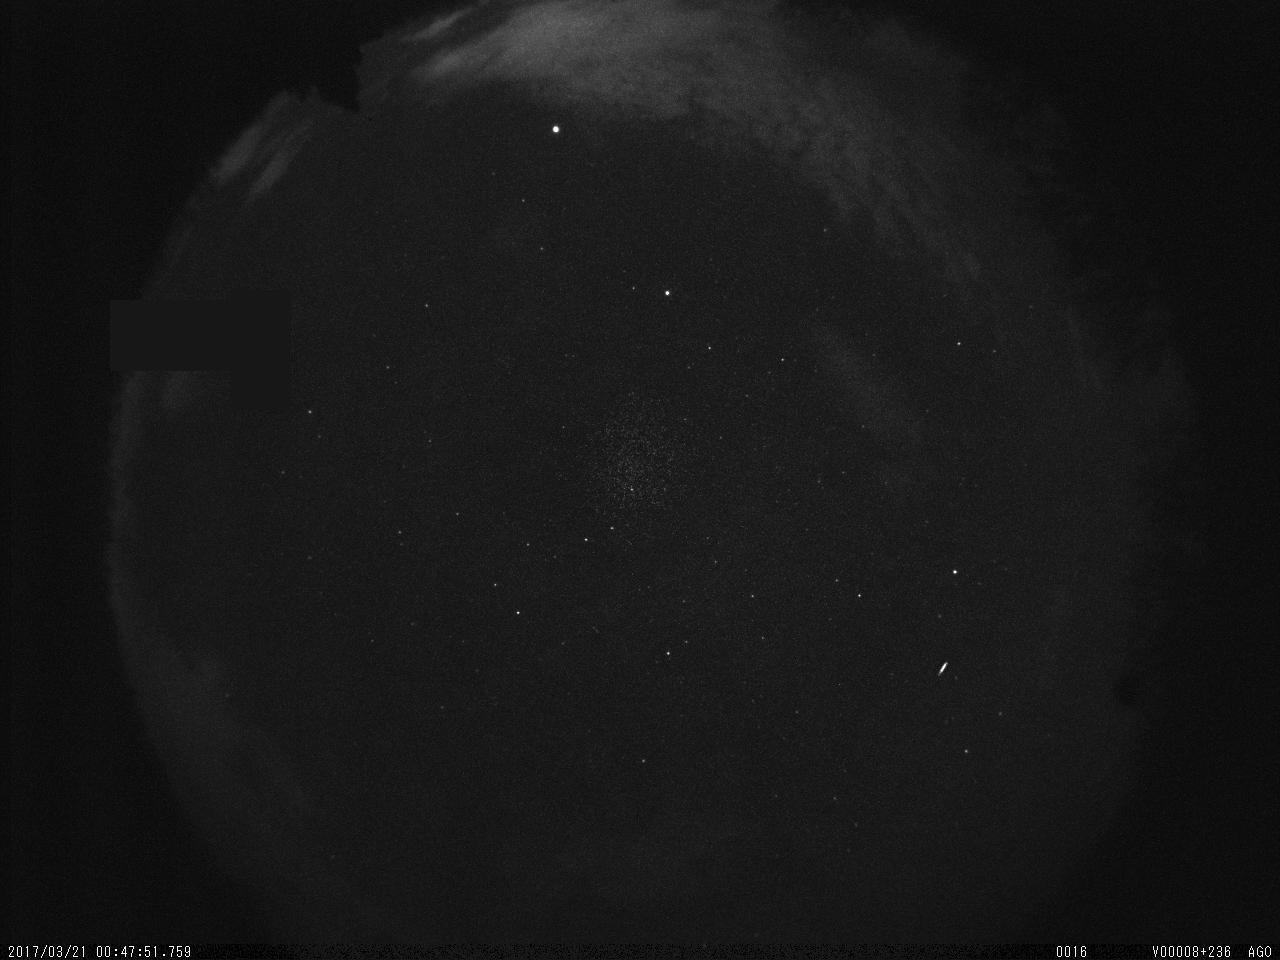meteor: (930, 650, 958, 684)
